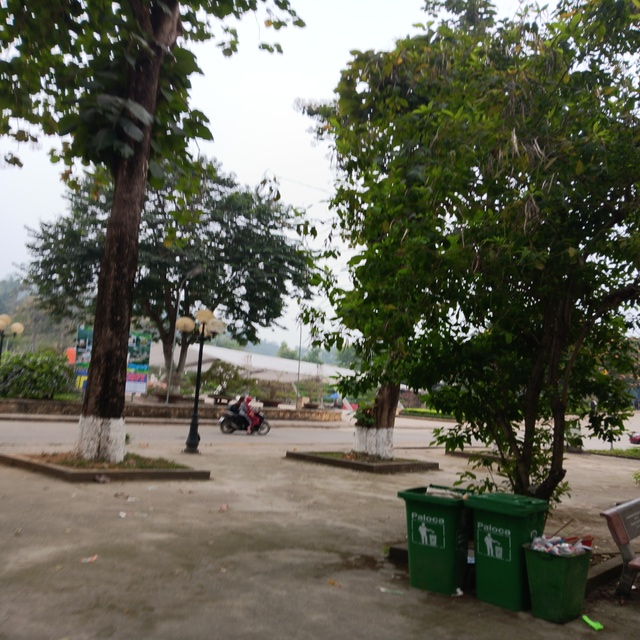thungrac: (464, 482, 547, 612), (396, 481, 472, 598), (524, 524, 593, 632)
